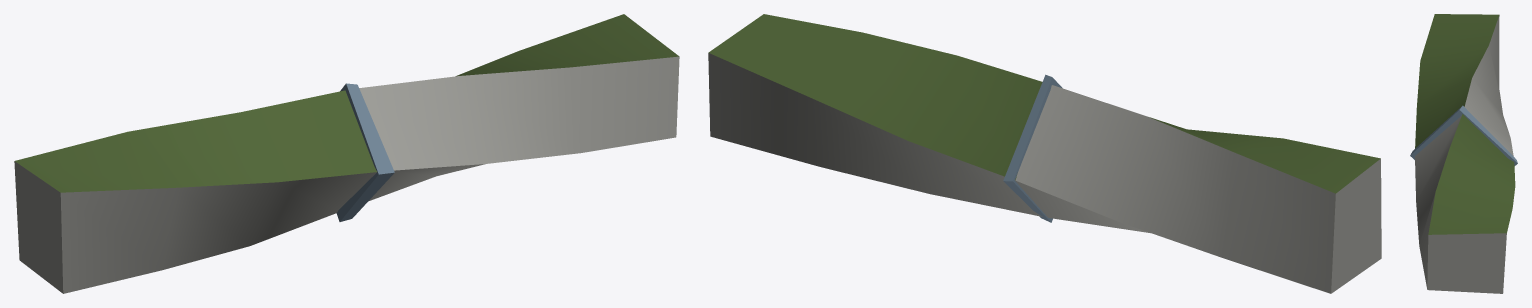
Rendered from MakerLintel.fbx.
The picture shows the model from 3 angles, left to right: view 1: azimuth 30°, elevation 25°; view 2: azimuth 150°, elevation 25°; view 3: azimuth 270°, elevation 25°; orthographic projection. The views are drawn at different scales.
Parts seen in each view (by area): view 1: MakerLintel; view 2: MakerLintel; view 3: MakerLintel.
Part boxes in pixels (x1,y1,x2,y2): MakerLintel: [14, 14, 679, 293]; MakerLintel: [708, 14, 1381, 293]; MakerLintel: [1410, 14, 1517, 293].
Size of the model in its own units: 3.12 by 0.6827 by 0.6661.
